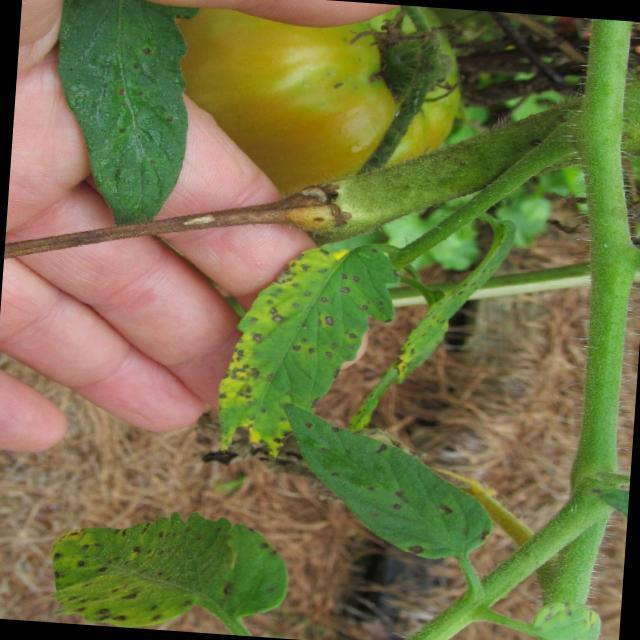Bacterial Spot: (206, 231, 402, 464), (278, 401, 497, 578), (46, 506, 288, 638), (88, 18, 188, 170), (529, 593, 612, 640)
